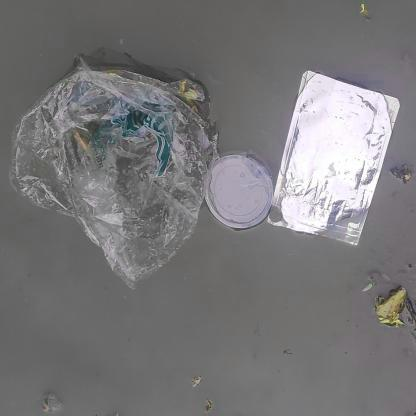Trash: (7, 67, 206, 288), (252, 69, 408, 250), (197, 146, 278, 236)
